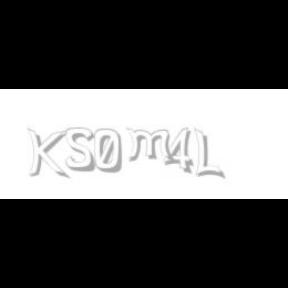0: (94, 128, 125, 174)
4: (162, 128, 194, 174)
K: (27, 128, 67, 180)
L: (194, 128, 222, 180)
S: (66, 128, 96, 172)
m: (125, 128, 177, 162)
